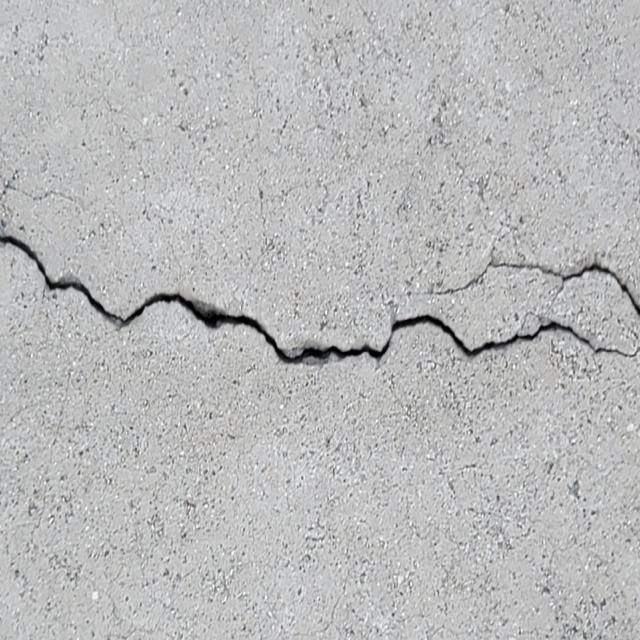SurfaceCrack: (1, 171, 640, 393)
